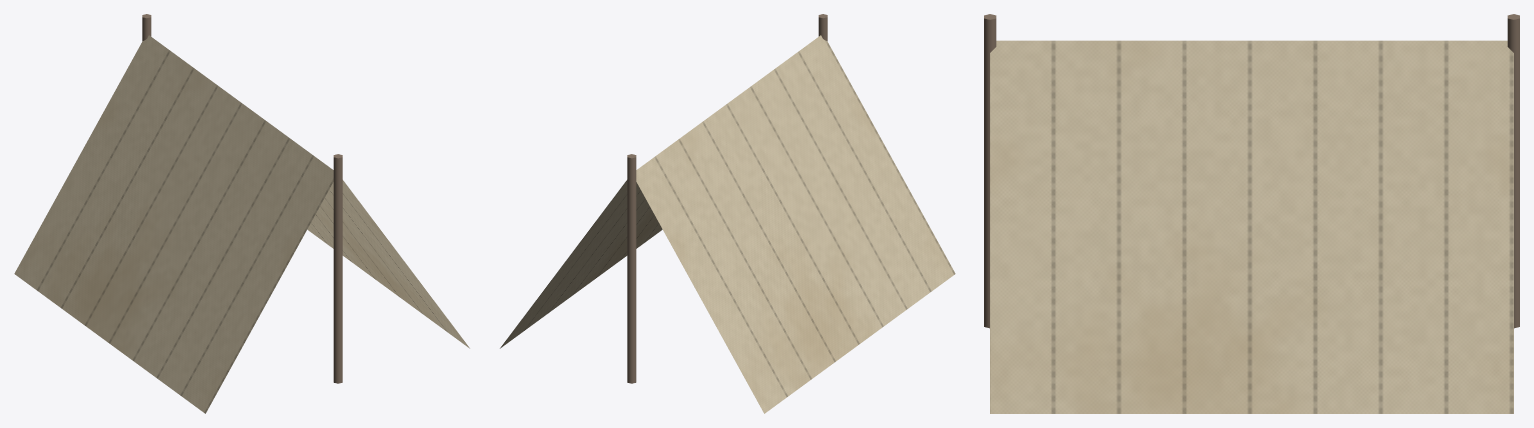
The model's file is SM_Art_Settlement_Camp_0.gltf.
3 renders of one model, left to right at view 1: azimuth 30°, elevation 25°; view 2: azimuth 150°, elevation 25°; view 3: azimuth 270°, elevation 25°, orthographic. The views are drawn at different scales.
Visible parts, largest first — view 1: SM_Art_Settlement_Camp_0; view 2: SM_Art_Settlement_Camp_0; view 3: SM_Art_Settlement_Camp_0.
Boxes of the visible parts, x1,y1,x2,y2 form: SM_Art_Settlement_Camp_0: (14,14,469,413); SM_Art_Settlement_Camp_0: (500,14,955,413); SM_Art_Settlement_Camp_0: (984,14,1519,413).
Bounding box in the file's own units: 2.4 × 1.95 × 3.07.
